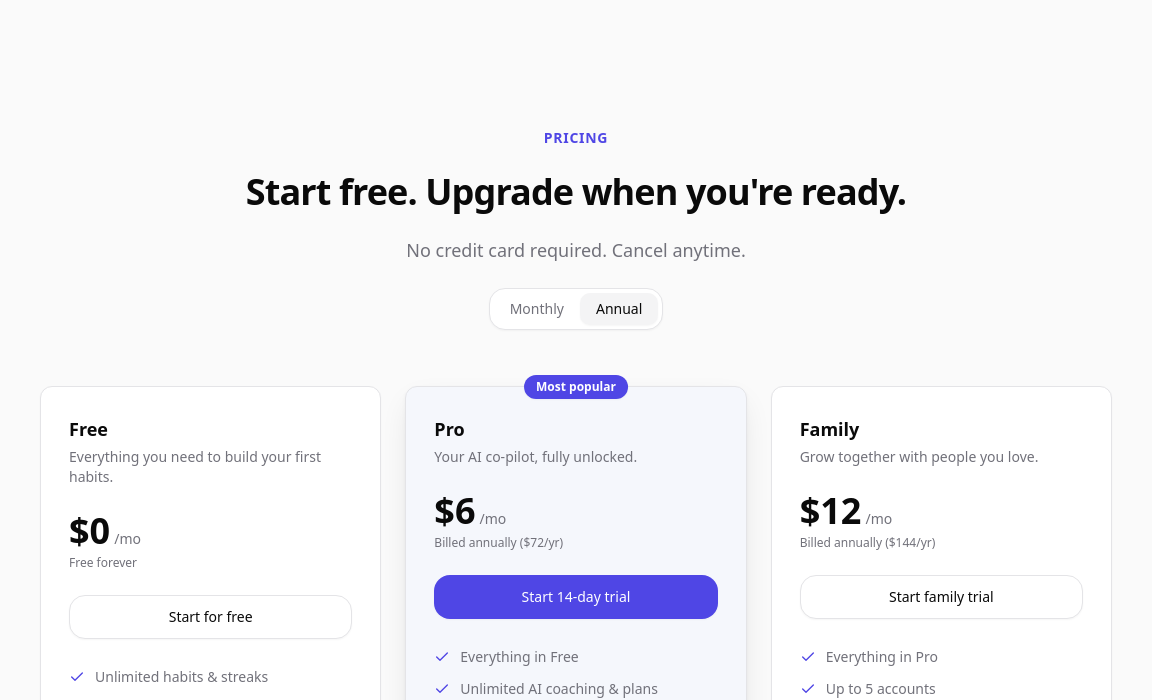
Test: PricingSection › shows the generic error on a rejected checkout
The image size is (1152, 700).
Click the button "Start 14-day trial" at point(576, 597), box x1=434 y1=575 x2=718 y2=619
(page scrolled)
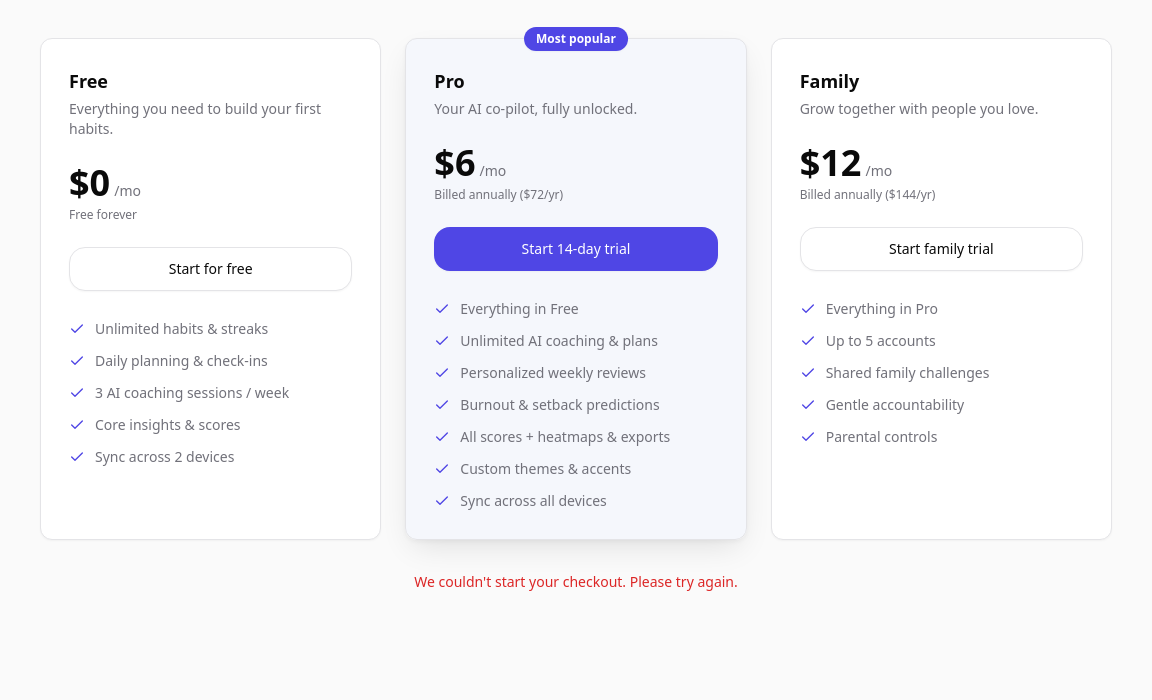
Expected: the text "We couldn't start your checkout. Please try again." is shown, x1=414 y1=572 x2=738 y2=591
